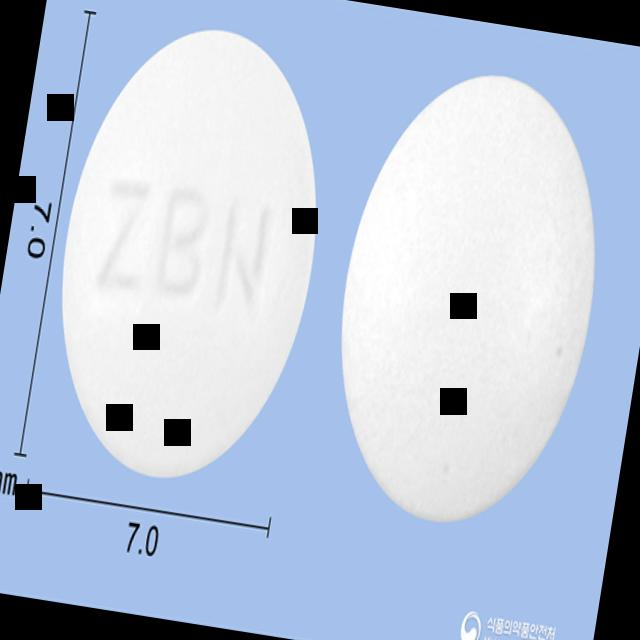Aclova: (31, 10, 348, 495), (312, 55, 626, 542)
